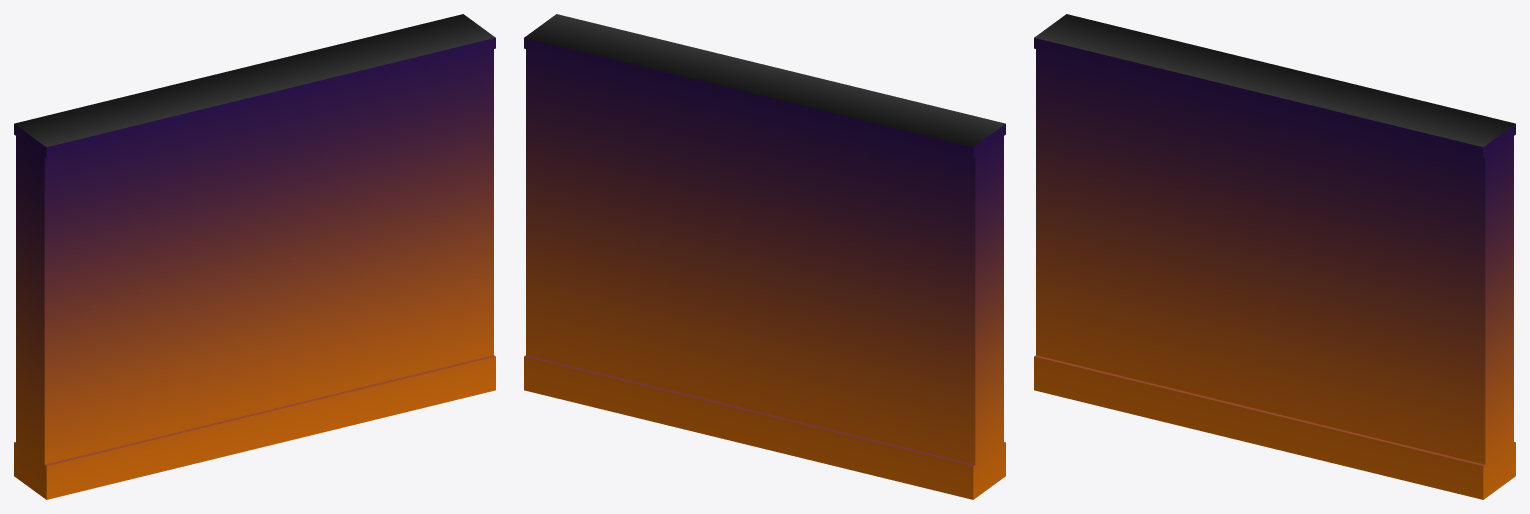
File: wall.glb
3 views of the same model, side by side, from view 1: azimuth 30°, elevation 25°; view 2: azimuth 150°, elevation 25°; view 3: azimuth 330°, elevation 25° (orthographic).
Visible parts, largest first — view 1: wall; view 2: wall; view 3: wall.
Part boxes in pixels (x1,y1,x2,y2): wall: [14, 14, 495, 499]; wall: [524, 14, 1005, 499]; wall: [1034, 14, 1515, 499].
Bounding box in the file's own units: 4 × 3 × 0.5.
Materials: 1 (1 with a texture image).
